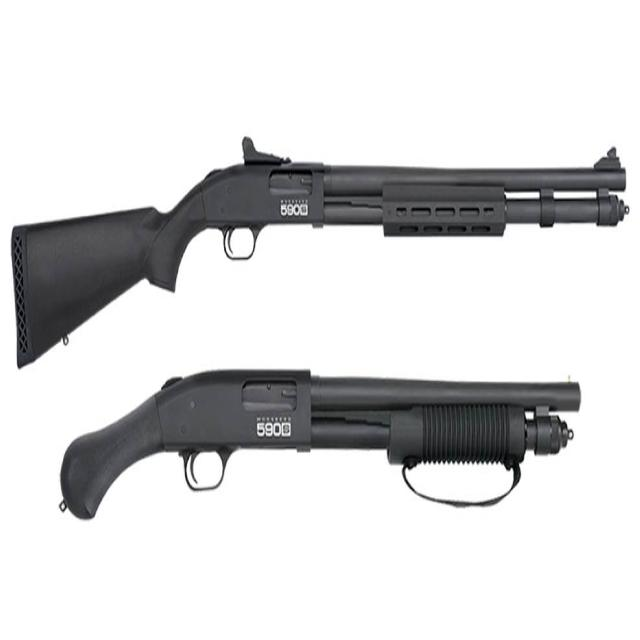ShotGun: (10, 138, 632, 371), (60, 369, 583, 523)
